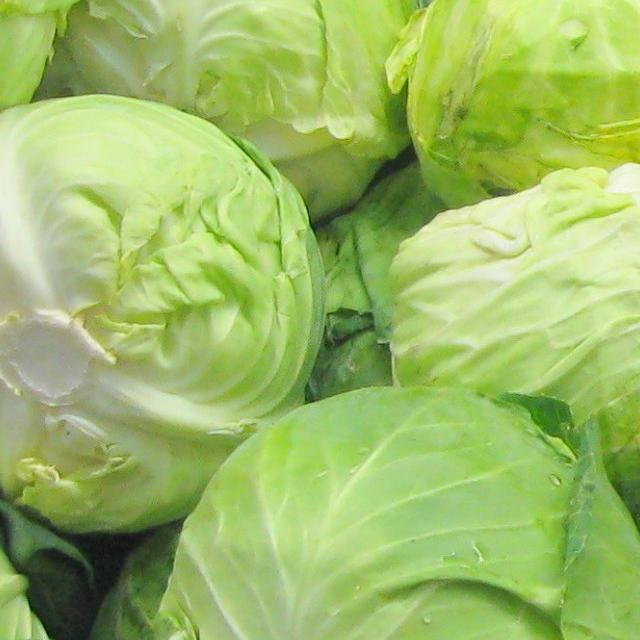cabbage: (0, 86, 323, 553), (143, 379, 640, 640), (379, 158, 640, 497), (63, 0, 423, 232), (407, 0, 640, 181)
